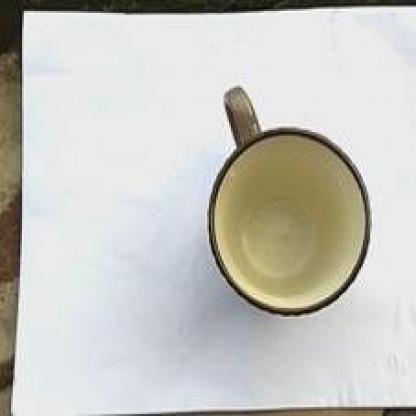mug: (173, 85, 398, 335)
